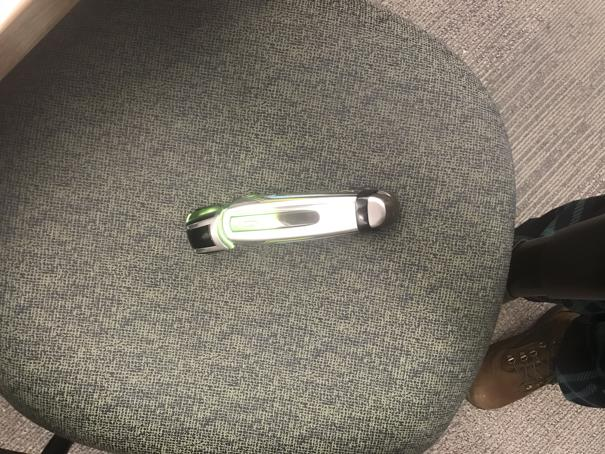Freewheel: (184, 186, 400, 254)
